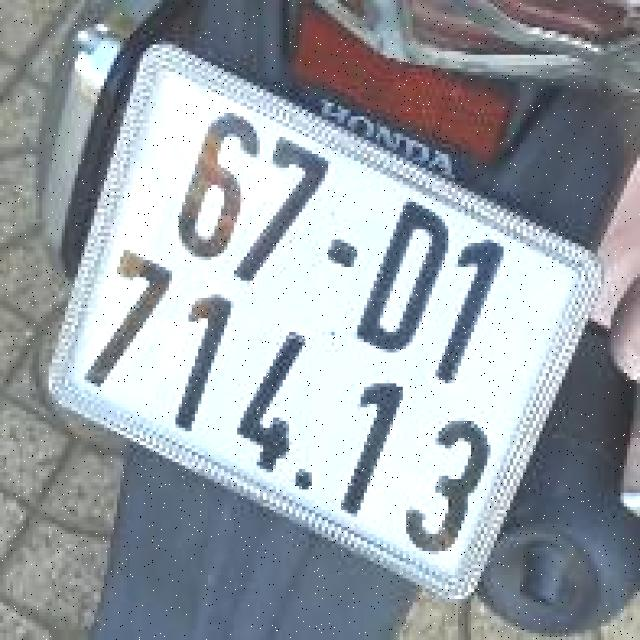1: (414, 225, 523, 398), (322, 364, 421, 531), (161, 283, 248, 443)
3: (388, 402, 513, 567)
4: (221, 313, 342, 492)
6: (166, 97, 277, 279)
7: (223, 128, 349, 299), (67, 236, 192, 400)
D: (338, 192, 463, 375)
